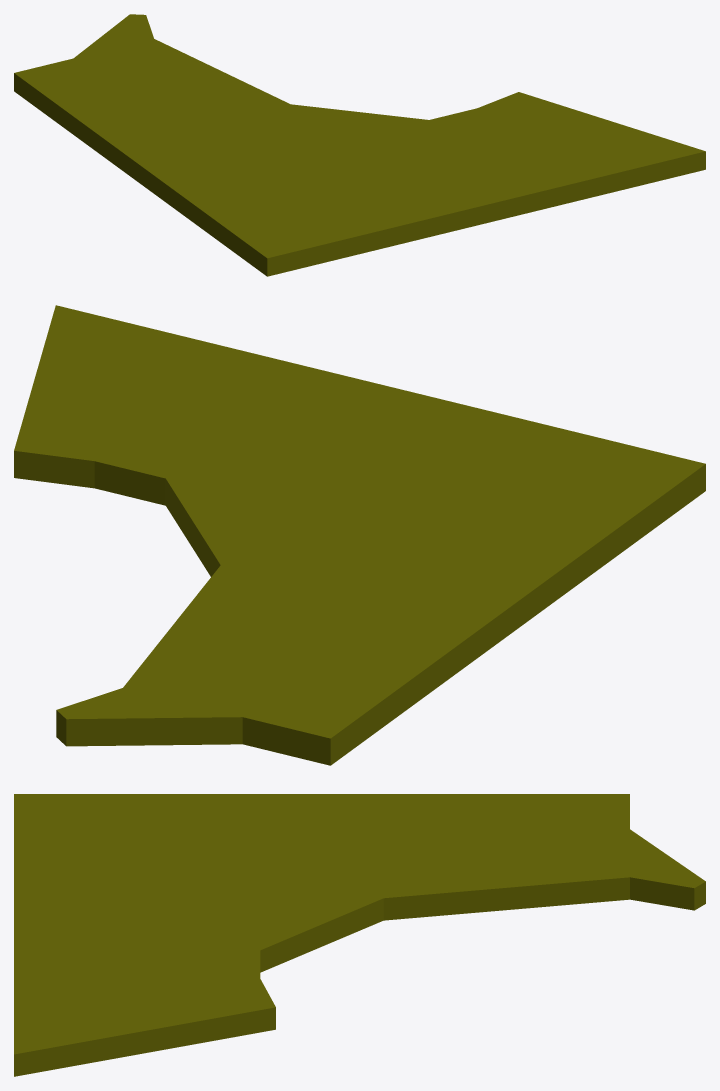
The model's file is x_0_boloto_12_1_rmstrd.fbx.
3 renders of one model, top to bottom at view 1: azimuth 30°, elevation 25°; view 2: azimuth 150°, elevation 25°; view 3: azimuth 270°, elevation 25°, orthographic. The views are drawn at different scales.
Parts seen in each view (by area): view 1: x_0_boloto_12_1_rmstrd1; view 2: x_0_boloto_12_1_rmstrd1; view 3: x_0_boloto_12_1_rmstrd1.
Part boxes in pixels (x1,y1,x2,y2): x_0_boloto_12_1_rmstrd1: [14, 14, 705, 276]; x_0_boloto_12_1_rmstrd1: [14, 305, 705, 765]; x_0_boloto_12_1_rmstrd1: [14, 794, 705, 1076].
Size of the model in its own units: 5 by 0.2 by 5.62.
